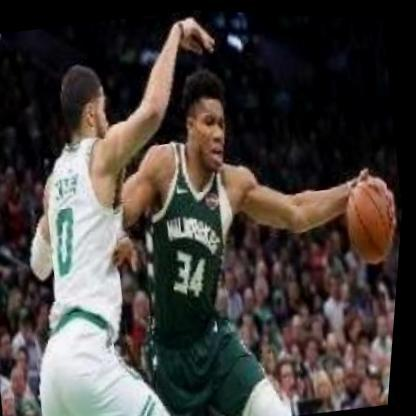basketball: (328, 161, 407, 266)
